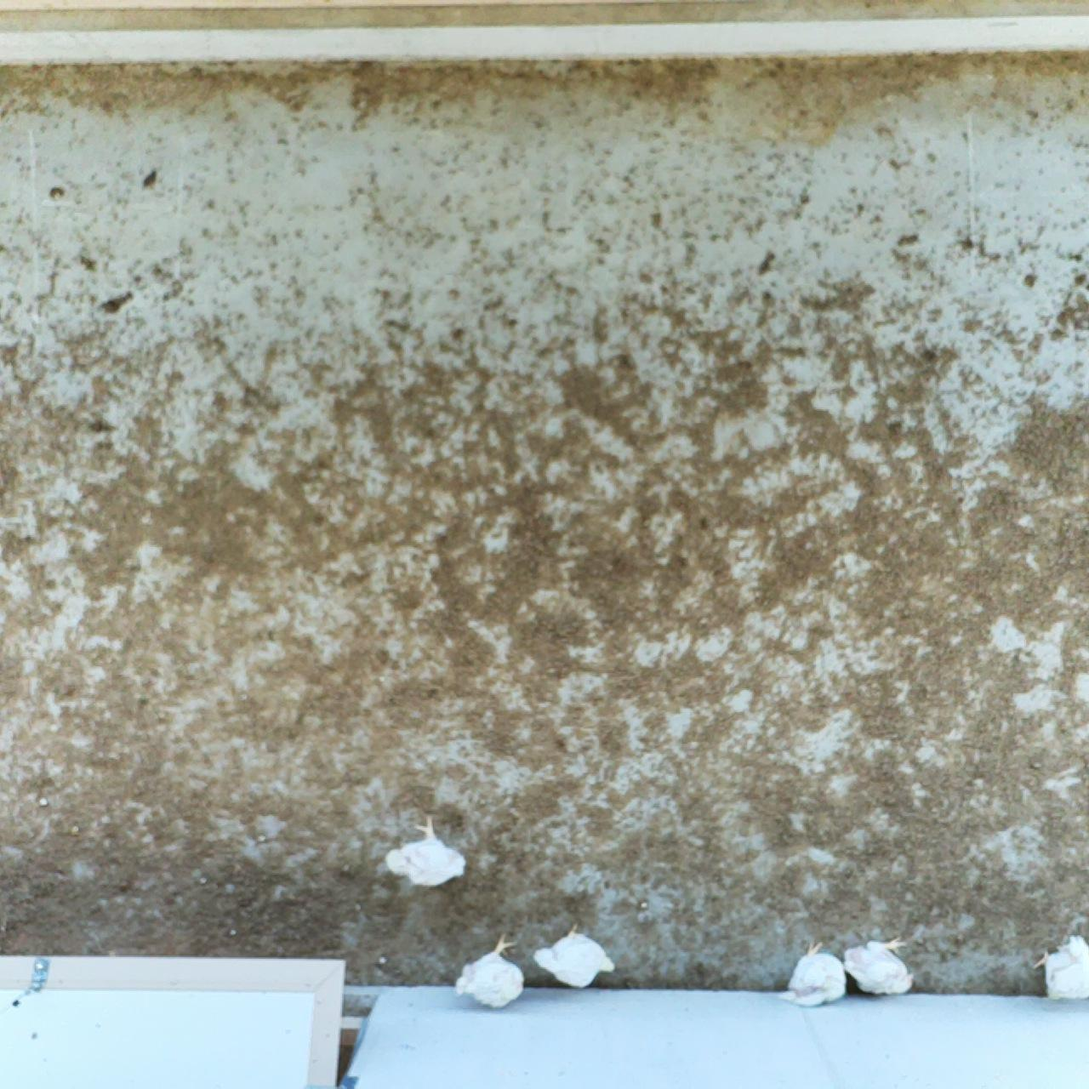chicken: (382, 809, 469, 893), (450, 927, 529, 1012), (532, 920, 617, 992), (774, 934, 849, 1010), (841, 932, 922, 997), (1031, 929, 1089, 1004)
